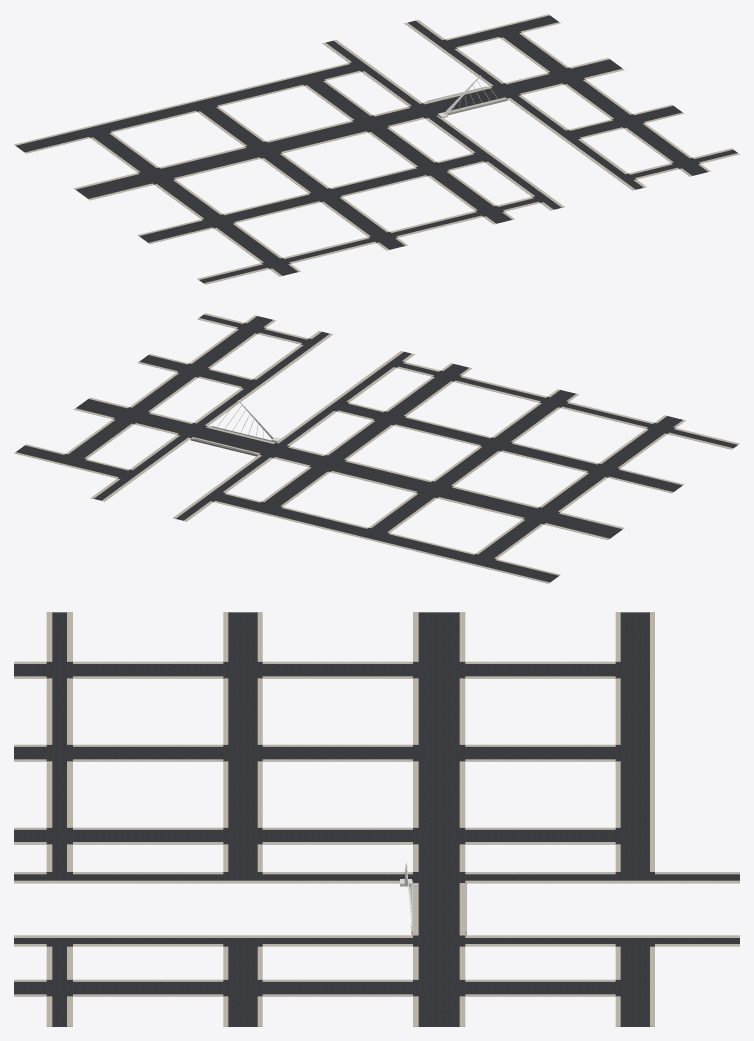
Rendered from 02_Calles_Puente.glb.
The picture shows the model from 3 angles, top to bottom: view 1: azimuth 30°, elevation 25°; view 2: azimuth 150°, elevation 25°; view 3: azimuth 270°, elevation 25°; orthographic projection. The views are drawn at different scales.
Visible parts, largest first — view 1: Calzadas, Veredas; view 2: Calzadas, Veredas; view 3: Calzadas, Veredas.
Part boxes in pixels (<box>): Calzadas: <box>16,15,737,283</box>; Veredas: <box>14,14,739,284</box>; Calzadas: <box>16,314,737,582</box>; Veredas: <box>14,313,739,583</box>; Calzadas: <box>14,612,739,1026</box>; Veredas: <box>14,612,739,1026</box>.
Bounding box in the file's own units: 600 × 36.03 × 444.
Materials: 4 (3 with a texture image).
